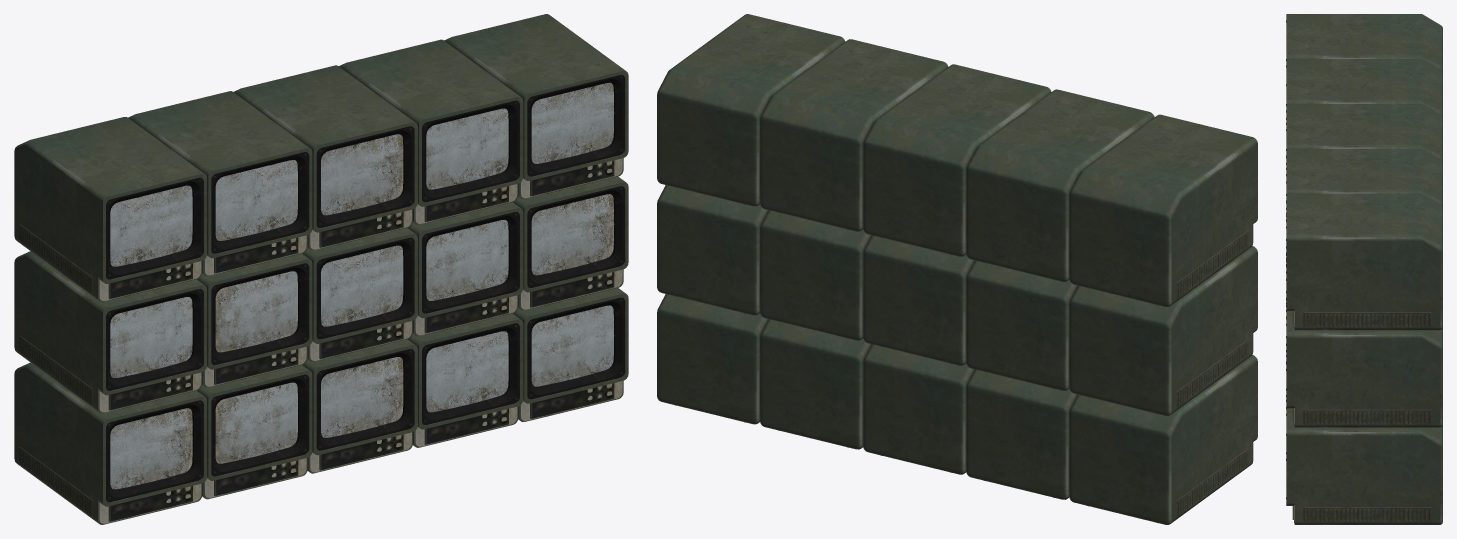
Rendered from sm23_039_monitoringdisplay01a.fbx.
3 renders of one model, left to right at view 1: azimuth 30°, elevation 25°; view 2: azimuth 150°, elevation 25°; view 3: azimuth 270°, elevation 25°, orthographic. The views are drawn at different scales.
Visible parts, largest first — view 1: LOD_1_Group_0_Sub_1__sm22_090_rooftopPartsG_A_Mat, LOD_1_Group_0_Sub_6__st3_sewageGlass01_Mat__Env_Alpha, LOD_1_Group_0_Sub_2__sm22_019_Switchboard03B_A_Mat; view 2: LOD_1_Group_0_Sub_1__sm22_090_rooftopPartsG_A_Mat; view 3: LOD_1_Group_0_Sub_1__sm22_090_rooftopPartsG_A_Mat.
Boxes of the visible parts, <box> form: LOD_1_Group_0_Sub_1__sm22_090_rooftopPartsG_A_Mat: <box>14,14,628,524</box>; LOD_1_Group_0_Sub_6__st3_sewageGlass01_Mat__Env_Alpha: <box>110,82,614,489</box>; LOD_1_Group_0_Sub_2__sm22_019_Switchboard03B_A_Mat: <box>108,160,614,521</box>; LOD_1_Group_0_Sub_1__sm22_090_rooftopPartsG_A_Mat: <box>657,14,1257,524</box>; LOD_1_Group_0_Sub_1__sm22_090_rooftopPartsG_A_Mat: <box>1286,14,1442,524</box>.
Bounding box in the file's own units: 2.53 × 1.53 × 0.7442.
